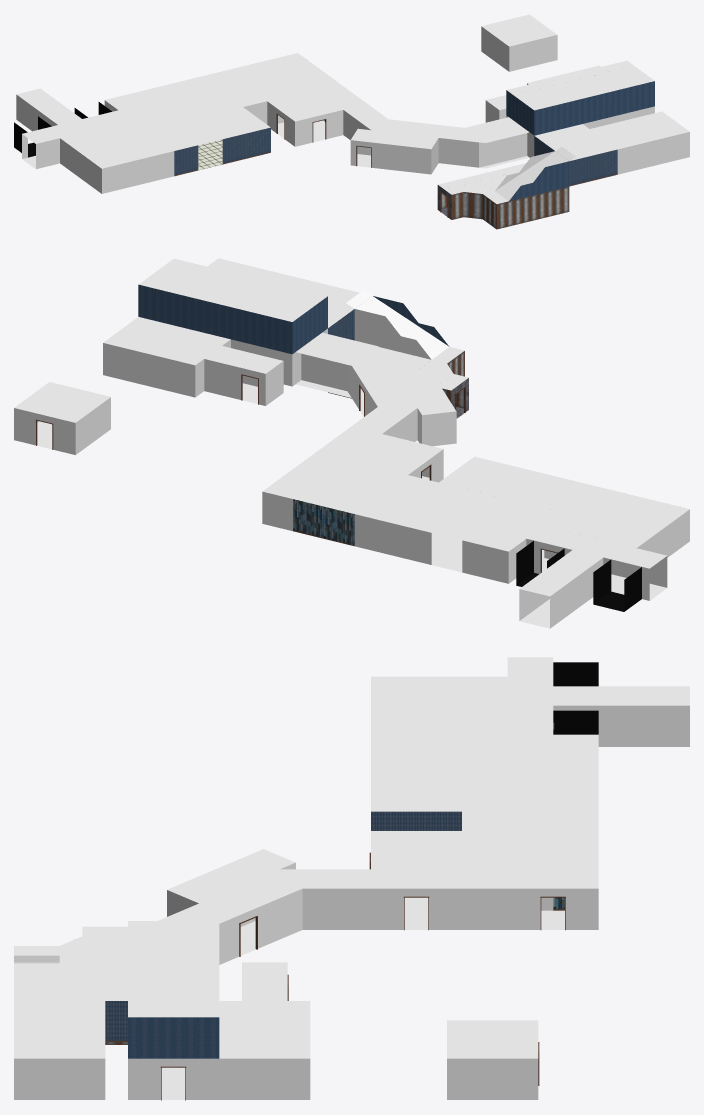
Rendered from grandplayarea 1.fbx.
3 renders of one model, top to bottom at view 1: azimuth 30°, elevation 25°; view 2: azimuth 150°, elevation 25°; view 3: azimuth 270°, elevation 25°, orthographic. The views are drawn at different scales.
Parts seen in each view (by area): view 1: Grand Play Area; view 2: Grand Play Area; view 3: Grand Play Area.
Boxes of the visible parts, box(x1,y1,x2,y2) form: Grand Play Area: box(14, 14, 689, 229); Grand Play Area: box(14, 258, 689, 628); Grand Play Area: box(14, 657, 689, 1100).
Bounding box in the file's own units: 65.16 × 46.34 × 9.38.
Materials: 11 (9 with a texture image).
